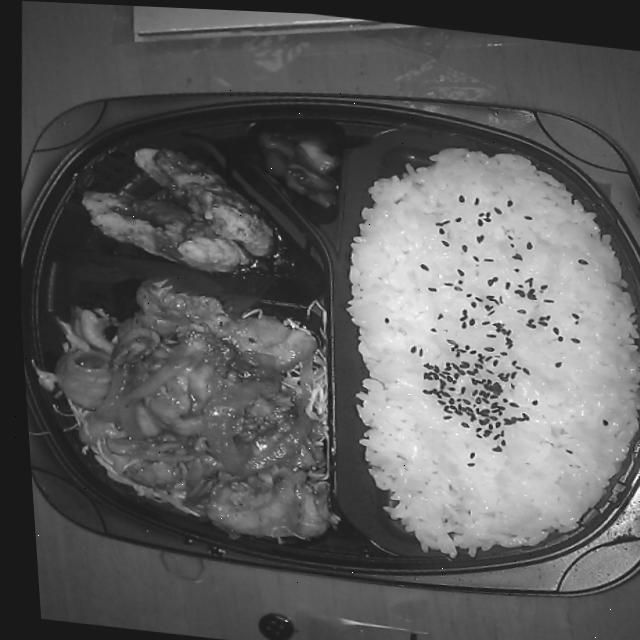猪肉菜式: (14, 272, 347, 545)
米饭主食: (323, 119, 640, 583)
